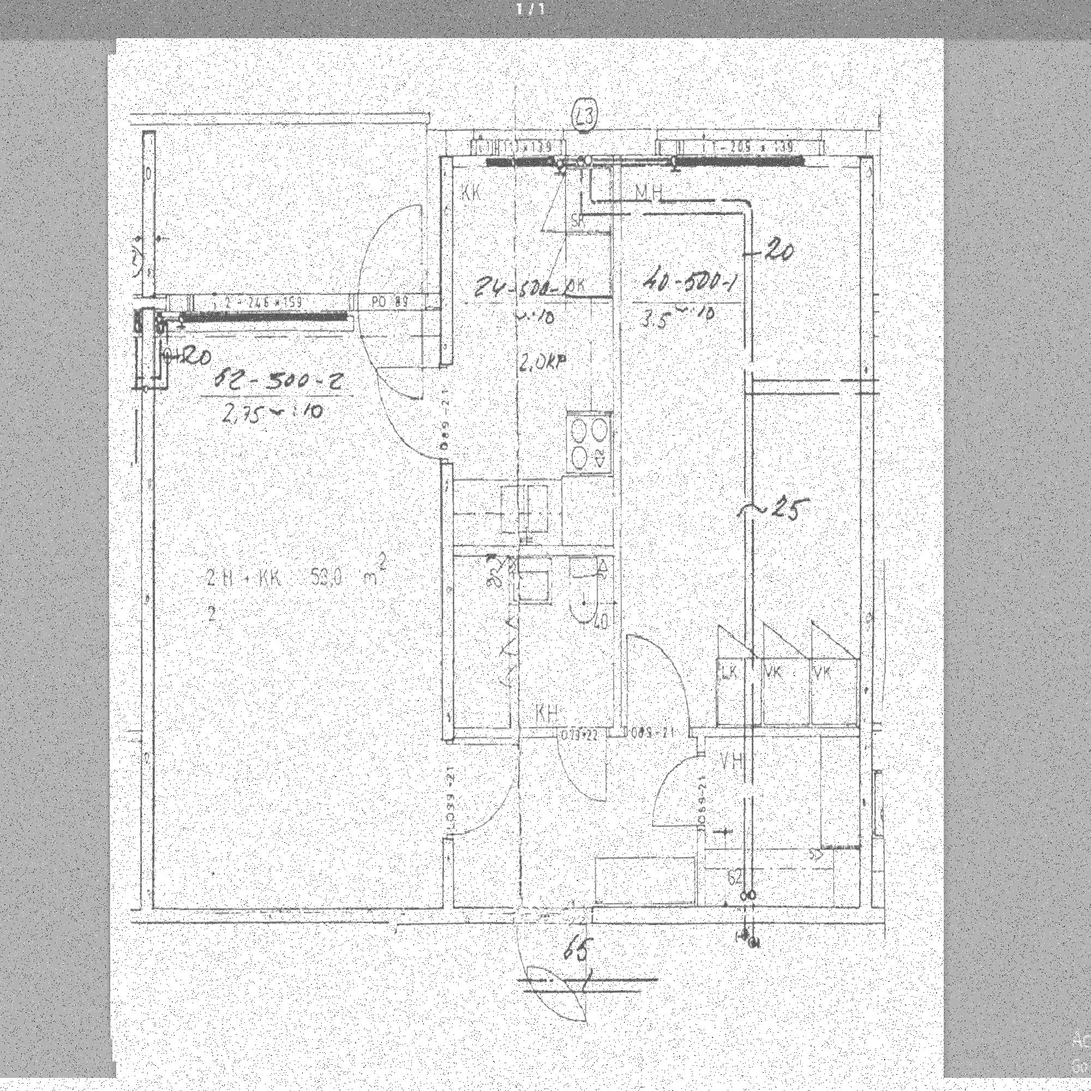wall: (428, 130, 874, 168), (142, 908, 873, 924), (860, 130, 873, 924), (142, 312, 155, 924), (441, 312, 453, 908), (142, 294, 453, 312), (428, 130, 453, 312), (453, 726, 860, 737), (614, 168, 622, 726), (142, 110, 438, 124), (142, 110, 154, 312), (453, 545, 614, 557), (698, 737, 706, 908), (427, 110, 438, 168)
